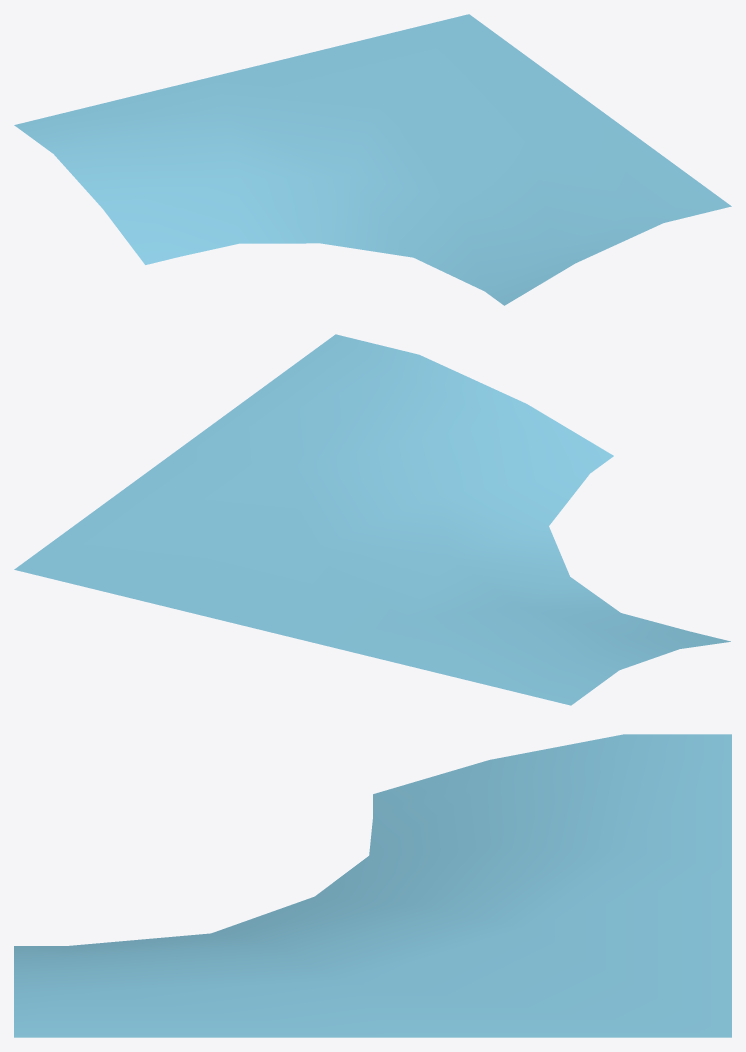
File: Snow_Corner_Inner.fbx
3 views of the same model, one above another, from view 1: azimuth 30°, elevation 25°; view 2: azimuth 150°, elevation 25°; view 3: azimuth 270°, elevation 25° (orthographic). The views are drawn at different scales.
Visible parts, largest first — view 1: Snow_Corner_Inner; view 2: Snow_Corner_Inner; view 3: Snow_Corner_Inner.
Part boxes in pixels (bbox=[...]): Snow_Corner_Inner: bbox=[14, 14, 731, 305]; Snow_Corner_Inner: bbox=[14, 334, 730, 705]; Snow_Corner_Inner: bbox=[14, 734, 731, 1037].
Size of the model in its own units: 1.2 by 0.1106 by 1.2.
